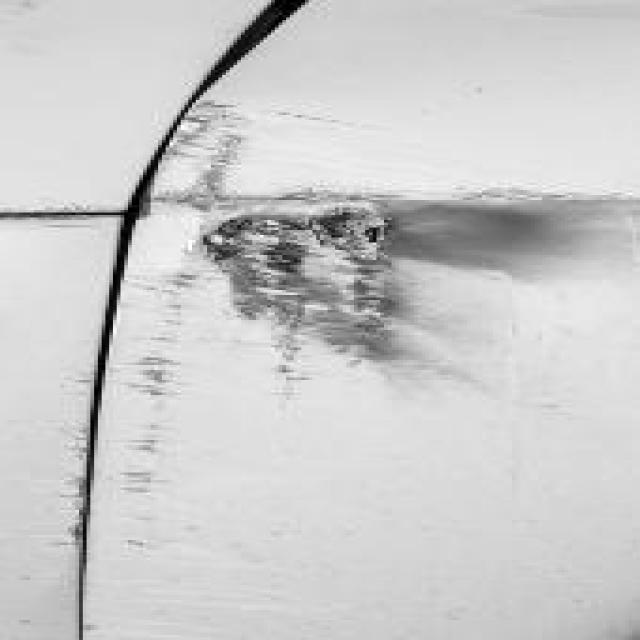Fender: (105, 90, 617, 550)
